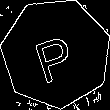P_N: (31, 24, 81, 83)
